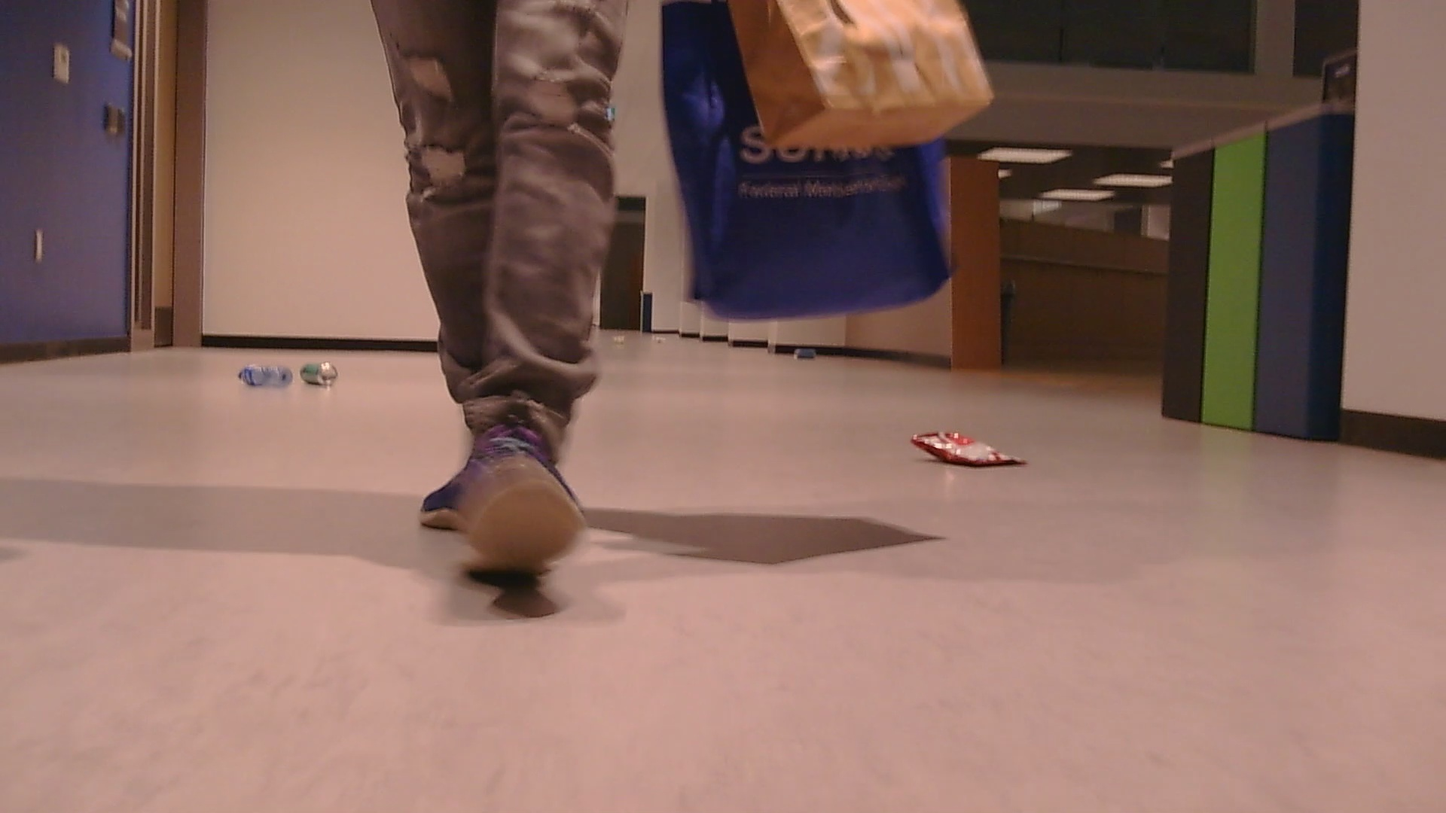carton: (908, 413, 1022, 482), (300, 355, 352, 401), (241, 352, 292, 393)
